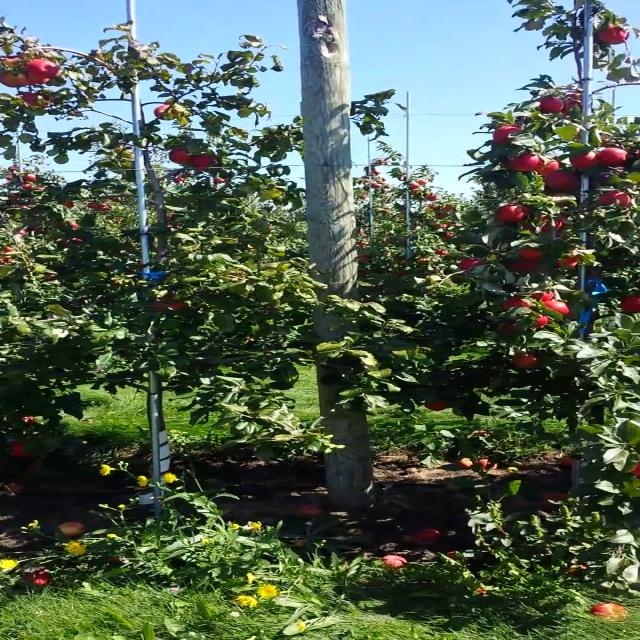apple: (494, 202, 528, 222), (598, 24, 630, 44), (26, 60, 61, 78), (598, 146, 628, 166), (512, 152, 541, 171), (568, 150, 598, 168), (544, 171, 574, 189), (539, 215, 567, 233), (492, 126, 522, 142), (168, 148, 197, 164), (22, 92, 50, 108), (598, 191, 630, 204), (512, 353, 537, 369), (0, 73, 28, 87), (535, 160, 558, 176), (502, 298, 532, 310), (540, 97, 562, 113), (559, 99, 581, 115), (11, 440, 32, 456), (154, 300, 185, 310), (620, 296, 638, 312), (545, 301, 569, 313), (423, 400, 449, 411), (511, 261, 538, 271), (192, 155, 214, 167), (560, 180, 580, 192), (520, 249, 540, 261), (560, 452, 581, 463), (1, 55, 19, 67), (153, 104, 171, 116), (558, 257, 578, 267), (532, 315, 548, 327), (500, 322, 518, 332), (532, 292, 554, 300), (28, 76, 48, 84), (462, 260, 478, 268), (630, 462, 639, 476), (564, 94, 580, 98)
